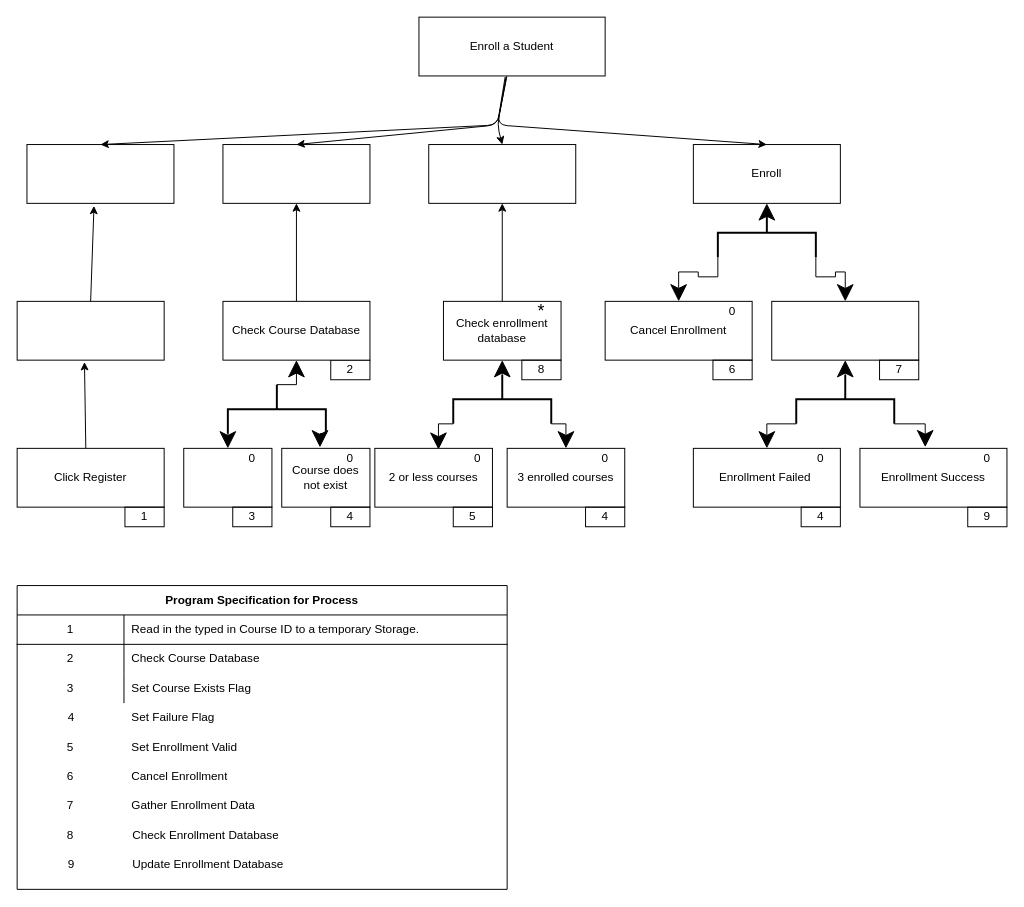
The diagram is 1024 pixels wide and 907 high, and some of its shapes have lost their labels. The shapes that lost their labels are listed below. From the top down, each one's centre as x and y in pixels, then its label:
At pixel 100 173: "Enter Course Info".
At pixel 296 173: "Check Course Exists".
At pixel 502 173: "Check max courses".
At pixel 90 330: "Type Course ID".
At pixel 845 330: "Confirm Enrollment".
At pixel 227 477: "Course Exists".
